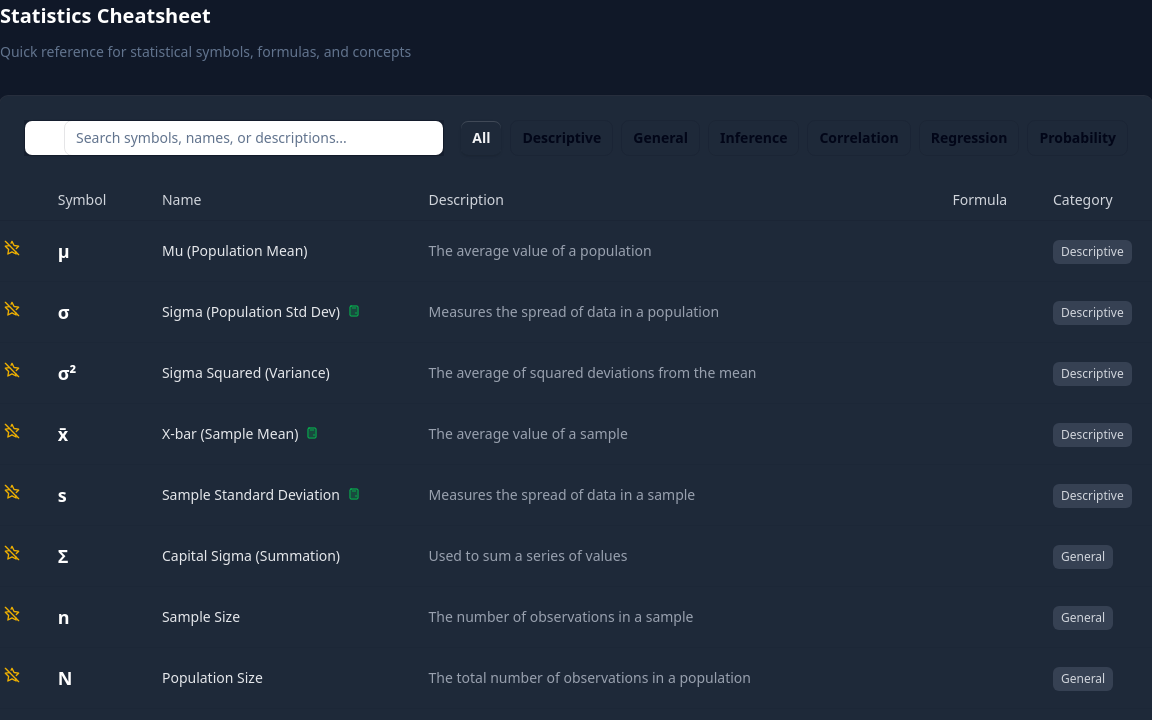
Test: CheatsheetPage (unit) › should filter symbols based on search input
Step 1. Type "sigma" into the field with placeholder "Search symbols, names, or descriptions..." → (254,138), box [64,120,444,156]
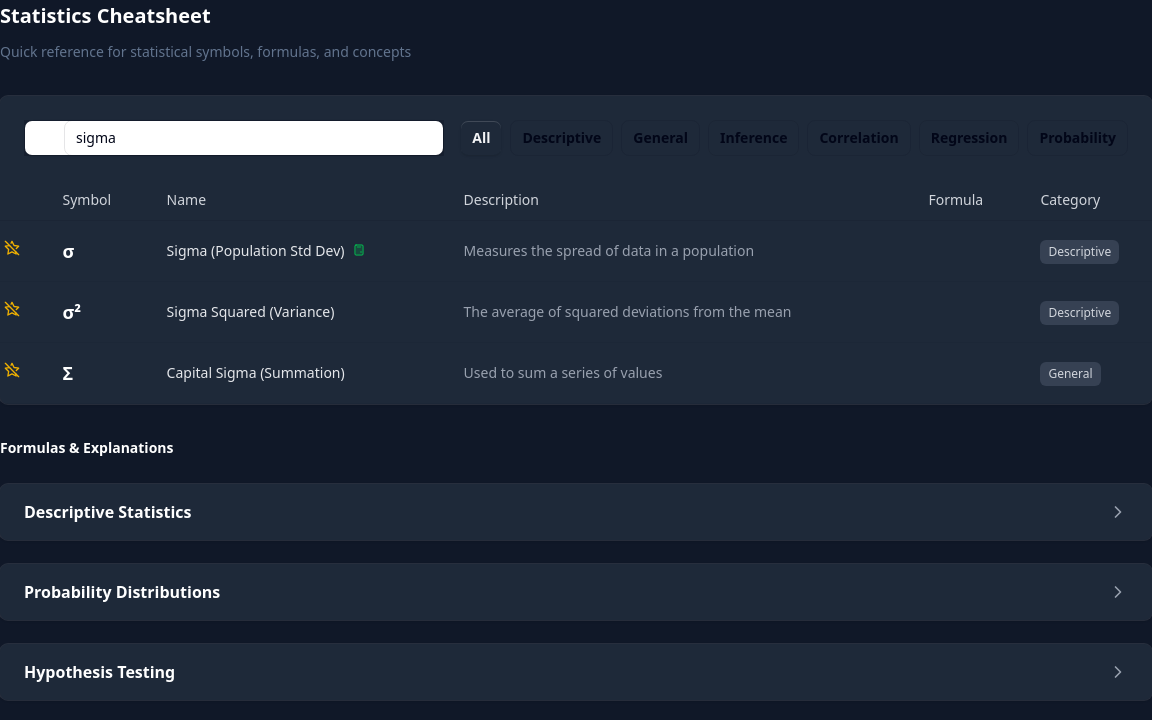
Now the text "Sigma (Population Std Dev)" is shown, box [151,220,448,282]
Now the text "Mu (Population Mean)" is gone
